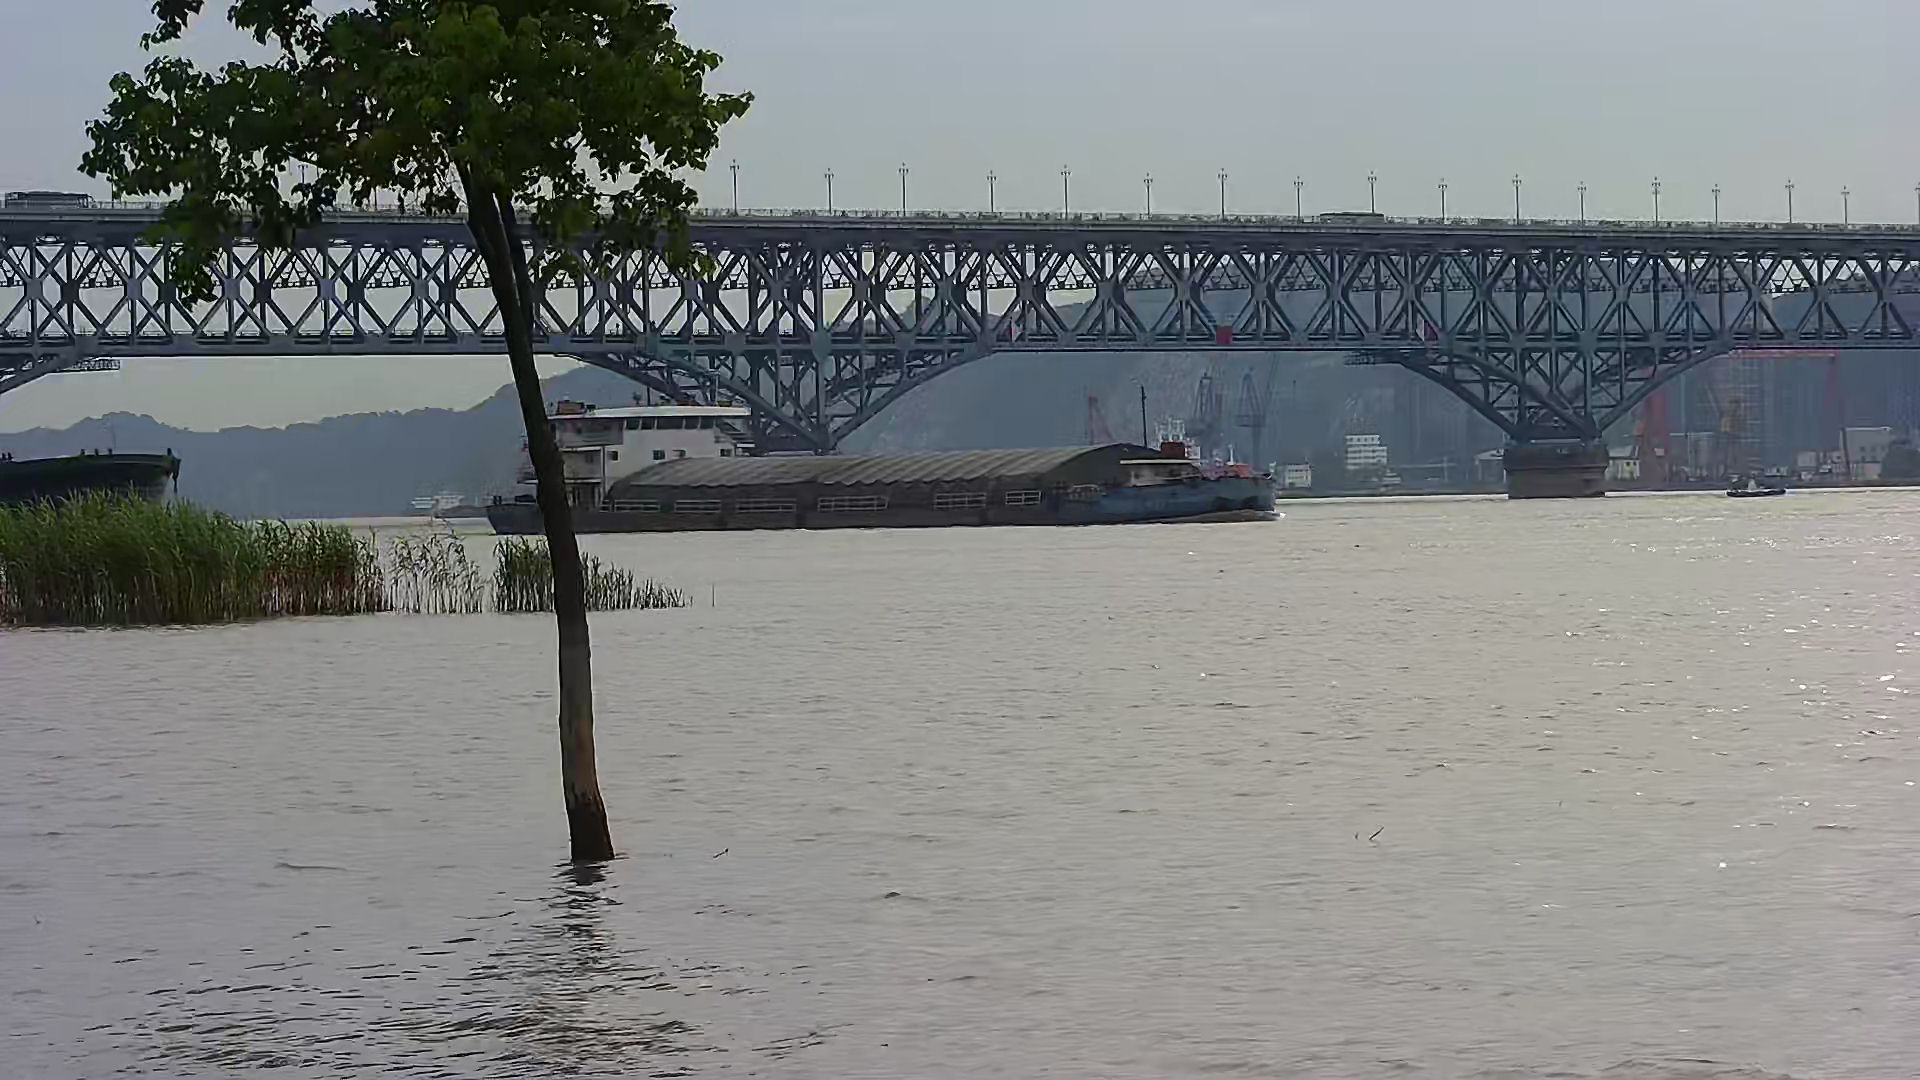boat: (1721, 480, 1785, 500)
bridge: (1, 169, 1920, 500)
grass: (3, 500, 695, 613)
ship: (487, 394, 1280, 530), (3, 450, 179, 520)
tree: (80, 1, 752, 864)
